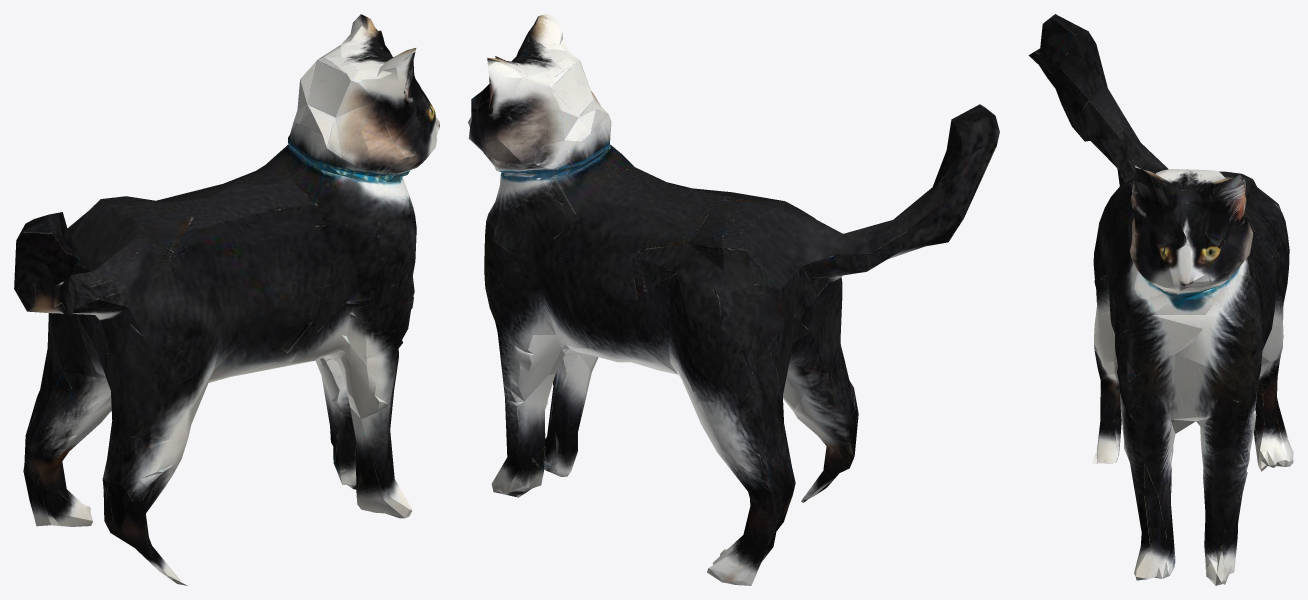
File: SOCKSCACAT-lo.glb
3 views of the same model, side by side, from view 1: azimuth 30°, elevation 25°; view 2: azimuth 150°, elevation 25°; view 3: azimuth 270°, elevation 25° (orthographic). The views are drawn at different scales.
Parts seen in each view (by area): view 1: output_unwrapped; view 2: output_unwrapped; view 3: output_unwrapped.
Boxes of the visible parts, box(x1,y1,x2,y2) form: output_unwrapped: box(14, 14, 439, 585); output_unwrapped: box(468, 14, 999, 585); output_unwrapped: box(1028, 14, 1293, 585).
Size of the model in its own units: 1.09 by 1 by 0.5744.
1 material, 1 textured.
